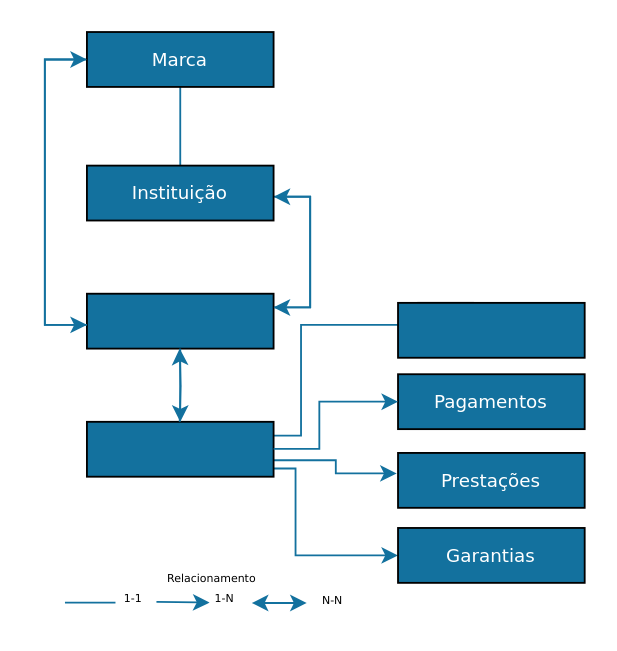
This 617x651 diagram has some shape labels left out. The shapes that lost their labels are listed below. From the top down, each one's centre as x and y in pixels, then its label:
pixel 179 320: Cliente PN e PJ
pixel 490 329: Contrato
pixel 179 448: Direitos creditórios descontados
